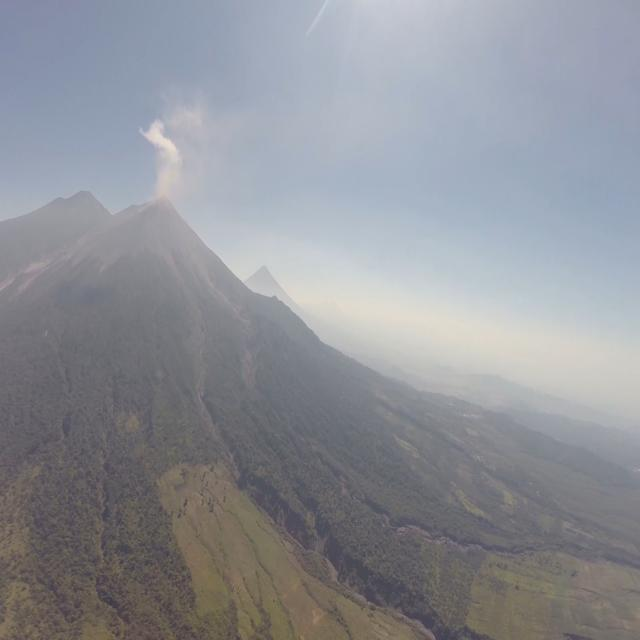Plume: (140, 118, 185, 204)
Summit: (143, 190, 176, 224)
